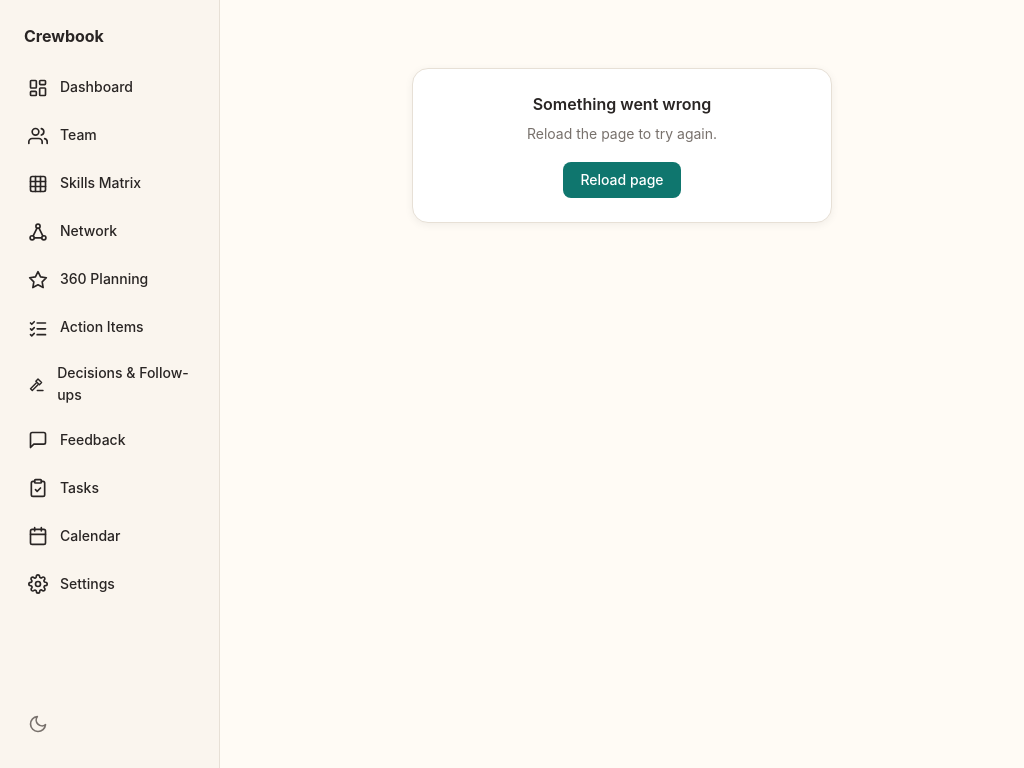
Scenario: AppShell error handling › clears the fallback after navigating to another route
Click the link "Dashboard": (80, 88) [28, 78, 133, 98]
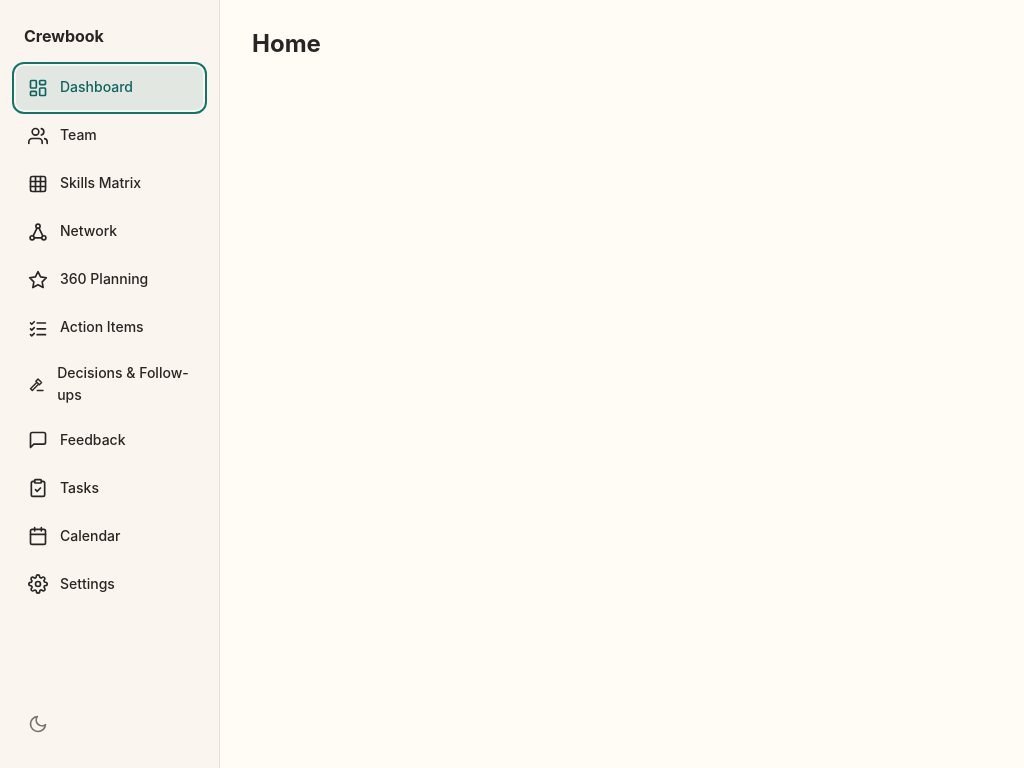
Expected: the heading "Home" is shown, [252, 29, 321, 58]
Expected: the message "Something went wrong Reload the page to try again. Reload page" is gone
